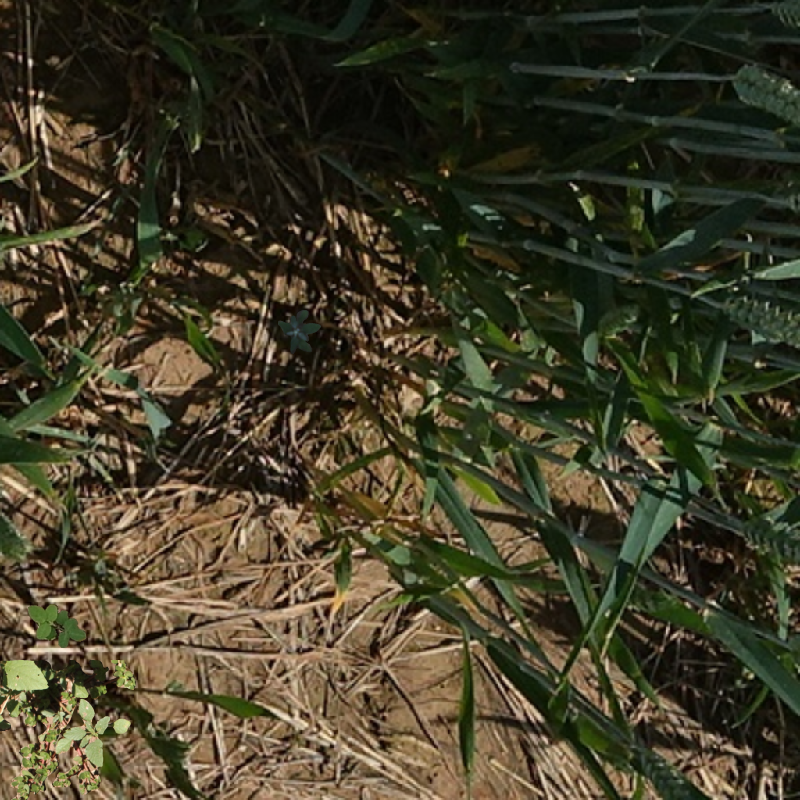spikelet: (714, 286, 800, 346), (729, 58, 800, 125), (635, 748, 706, 800), (735, 512, 799, 567)
weed: (1, 660, 136, 800), (28, 604, 86, 648), (278, 310, 321, 354)
